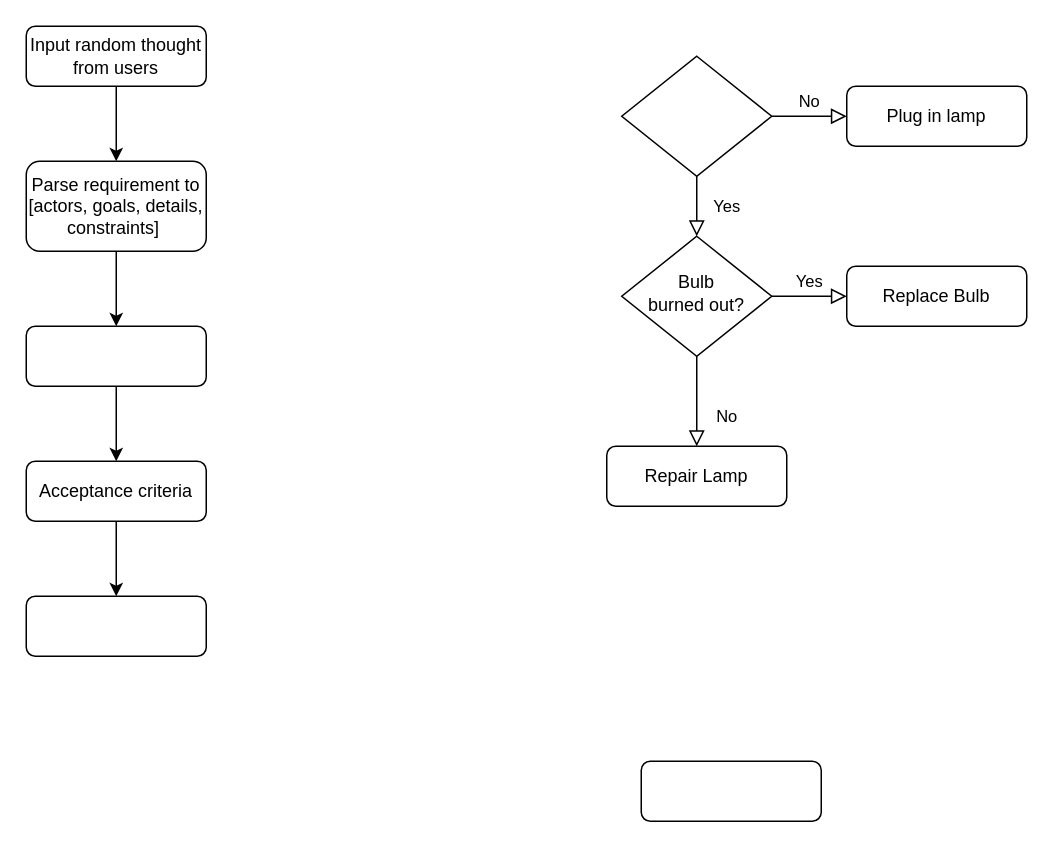
The diagram is 1053 pixels wide and 848 high, and some of its shapes have lost their labels. The centre of each missing label's shape, as x and y in pixels:
Generate users storys: pixel 115 355
Lamp plugged in?: pixel 696 115
Requirement classification: pixel 115 625
Validation: pixel 730 790
